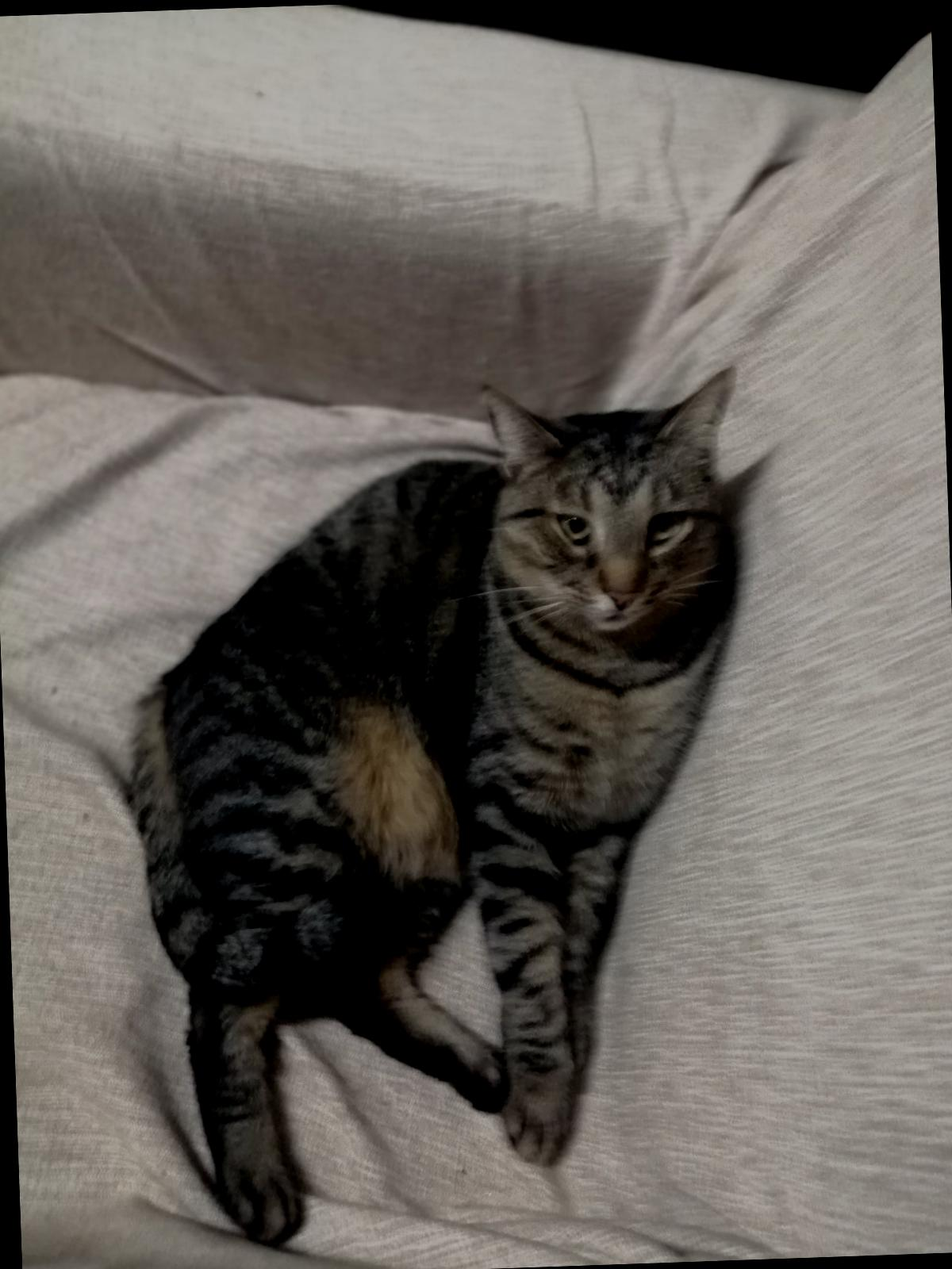macka: (117, 368, 772, 1250)
